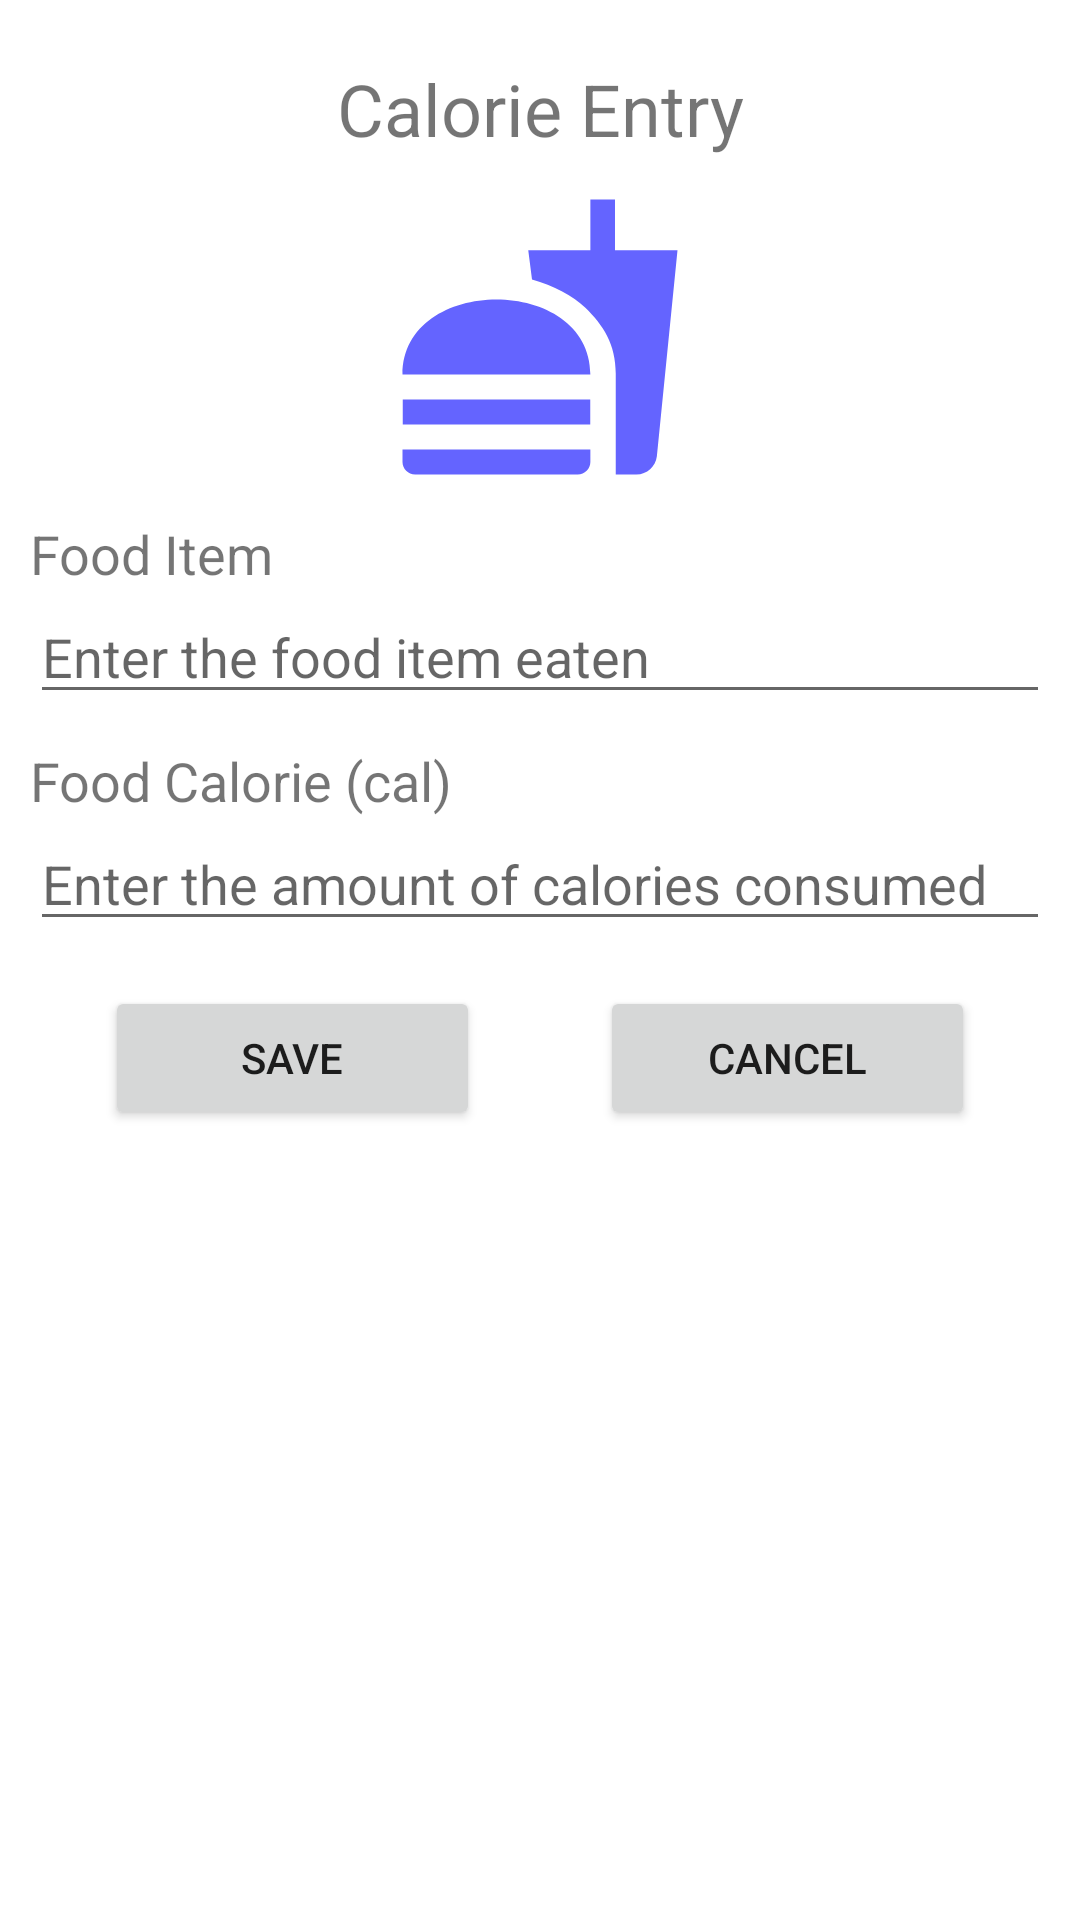

Point at icon controls on the screen. Image size 1080*1920, points as (x=x, y=y).
fast food: (x=540, y=337)
